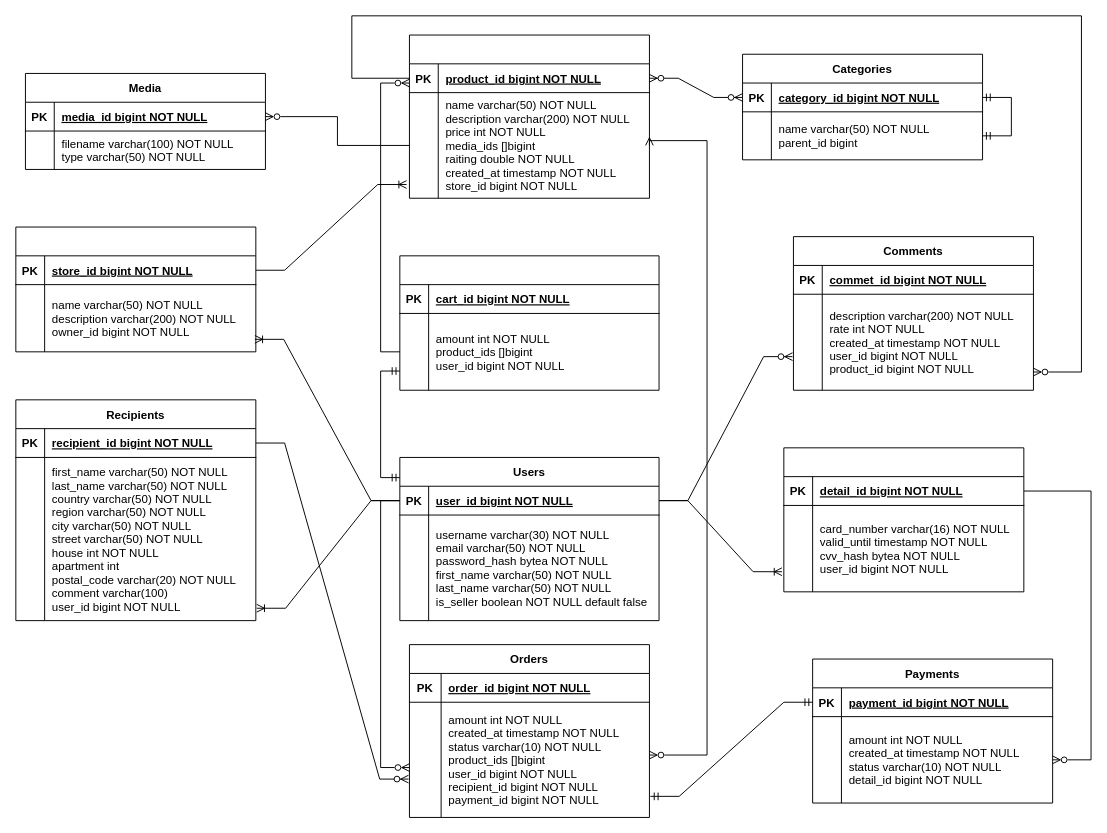
The diagram is 1107 pixels wide and 833 high, and some of its shapes have lost their labels. The shapes that lost their labels are listed below. From the top down, each one's box as (x1, y1, x2, y2) in pixels, then its label:
(408, 34, 649, 198): Products
(15, 226, 256, 352): Stores
(399, 255, 659, 390): Shopping_carts
(783, 447, 1024, 592): Payments_details
